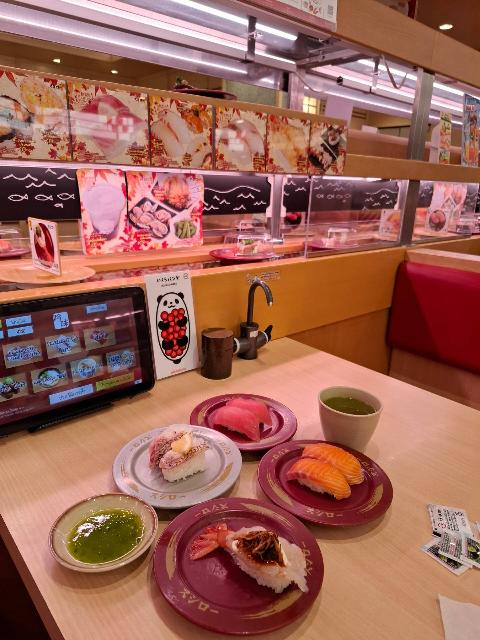janred: (202, 508, 342, 612), (252, 439, 394, 532), (193, 388, 301, 442), (306, 228, 361, 278), (208, 242, 282, 275)
janwhite: (90, 393, 241, 505)
